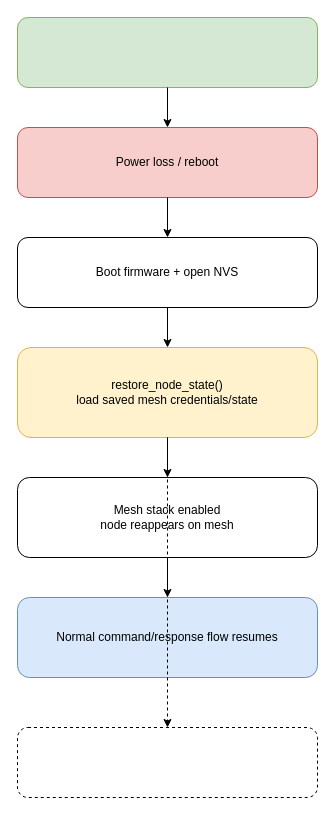
Image size: 335x815. Some labels were removed from this diagram. Each missing label, with the box of its shape:
If state invalid, reprovision path required: (16, 726, 318, 798)
Node running normally: (16, 16, 318, 88)
